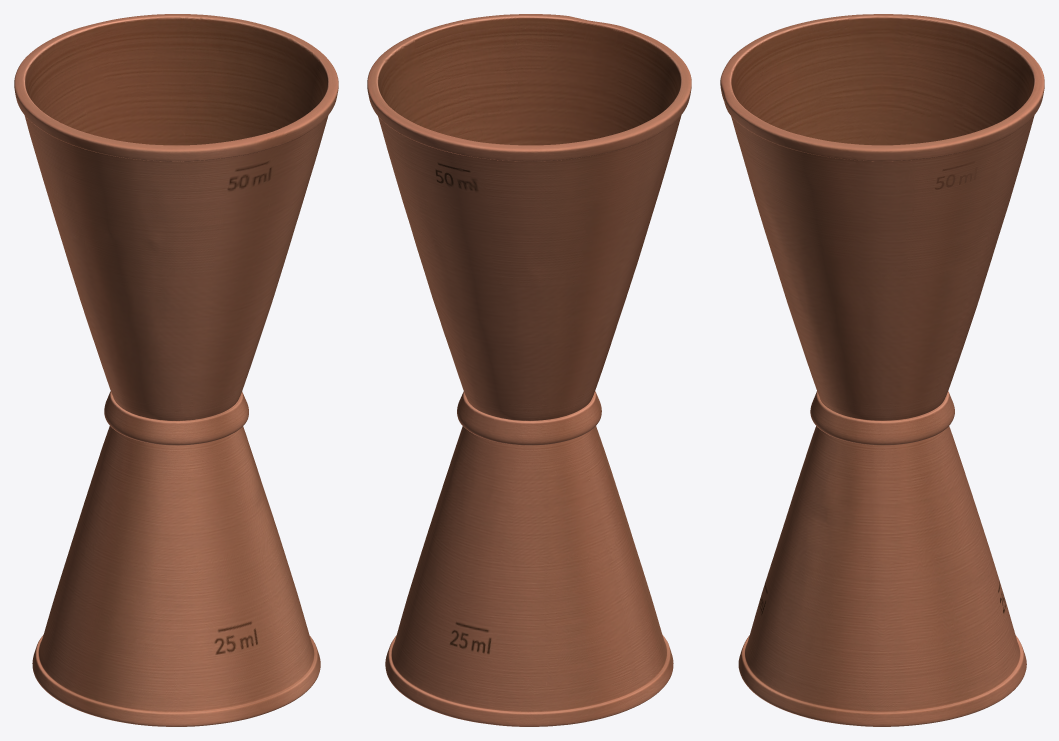
File: jugger.glb
The picture shows the model from 3 angles, left to right: view 1: azimuth 30°, elevation 25°; view 2: azimuth 150°, elevation 25°; view 3: azimuth 270°, elevation 25°; orthographic projection.
Bounding box in the file's own units: 0.9522 × 1.9 × 0.9532.
Materials: 1 (1 with a texture image).
